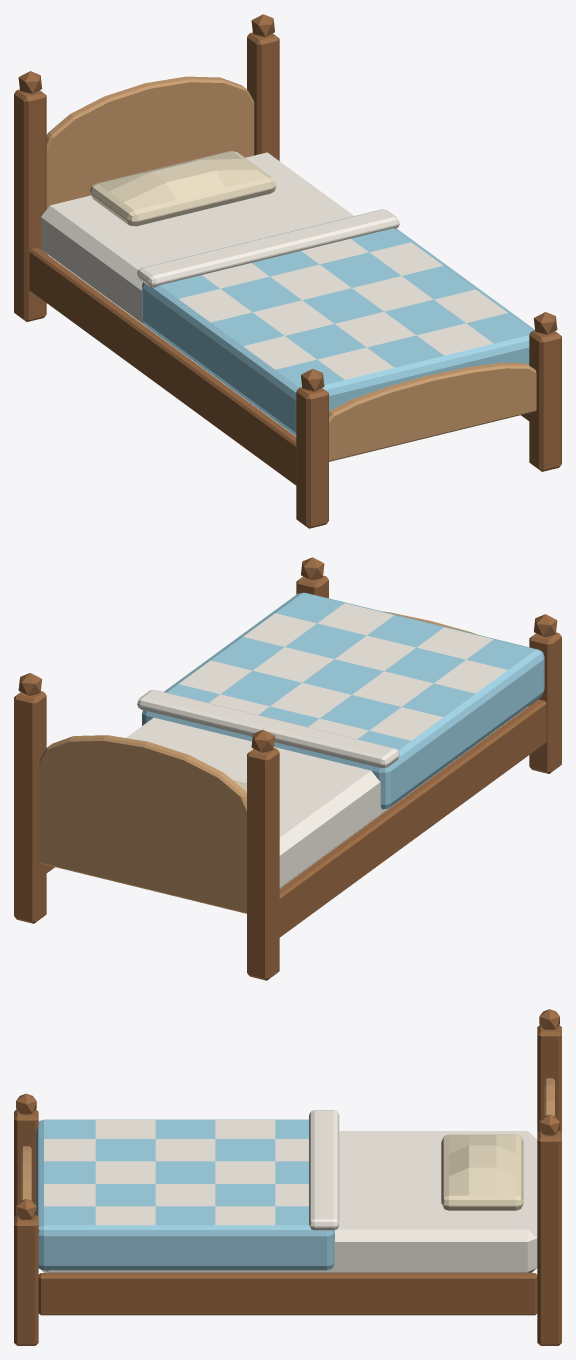
The model's file is bed.glb.
The picture shows the model from 3 angles, top to bottom: view 1: azimuth 30°, elevation 25°; view 2: azimuth 150°, elevation 25°; view 3: azimuth 270°, elevation 25°; orthographic projection. The views are drawn at different scales.
Visible parts, largest first — view 1: bed; view 2: bed; view 3: bed.
Boxes of the visible parts, box(x1,y1,x2,y2) form: bed: box(14, 14, 561, 528); bed: box(14, 557, 561, 980); bed: box(14, 1009, 561, 1345).
Bounding box in the file's own units: 1 × 0.9165 × 2.
Materials: 1 (1 with a texture image).
